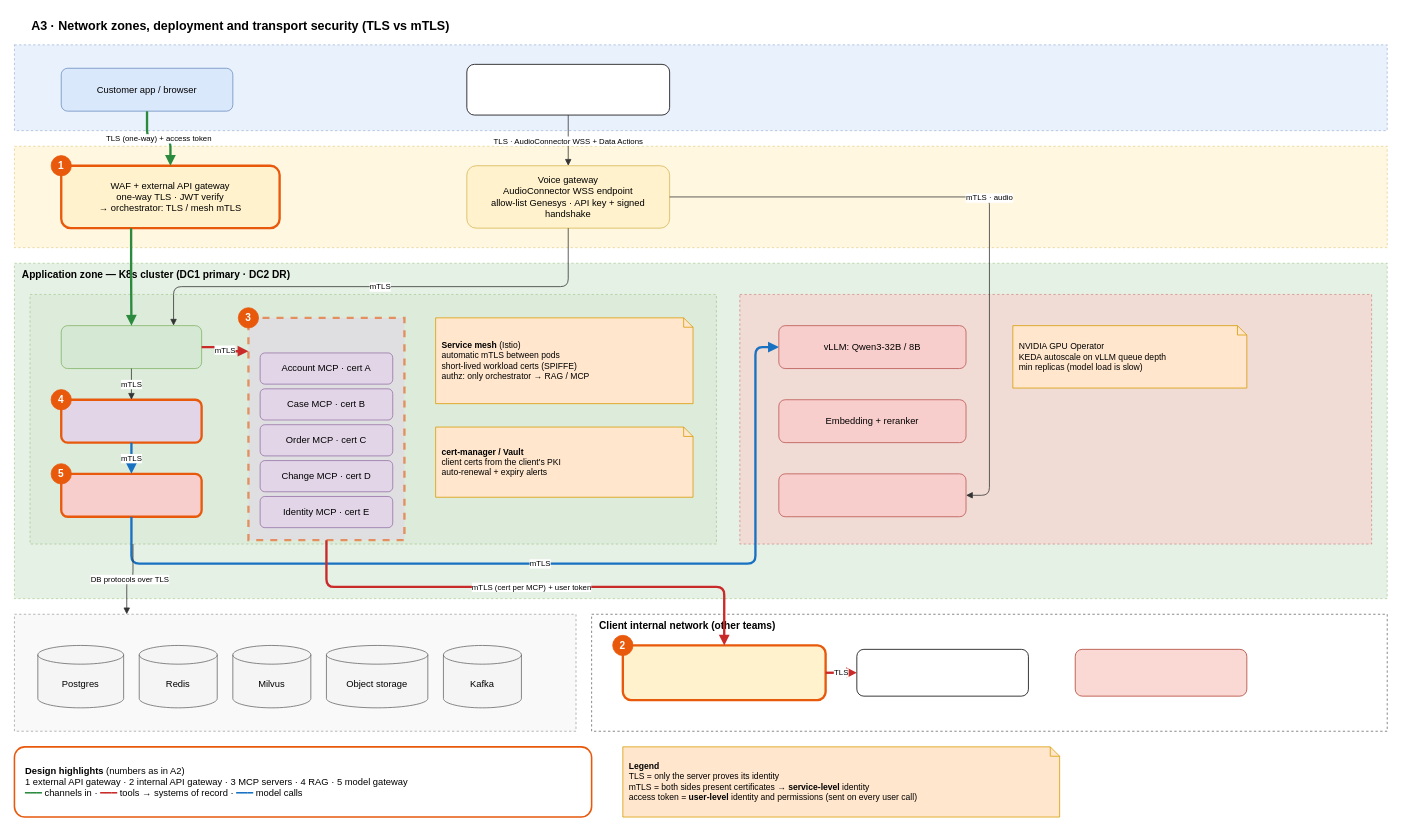
Image size: 1401x831. Some labels were removed from this diagram. The shapes that lost their labels are listed below. From the top down, each one's box as (x1, y1, x2, y2) in pixels, then its label:
(466, 64, 670, 115): Genesys Cloud CX (SaaS) or Genesys Engage (on-prem)
(14, 44, 1387, 131): Internet
(14, 145, 1387, 248): DMZ
(60, 325, 202, 369): Orchestrator
(60, 398, 202, 443): RAG service
(247, 316, 405, 541): MCP servers client cert A–E
(29, 294, 716, 544): CPU node pool
(739, 294, 1372, 544): GPU node pool (tainted)
(60, 472, 202, 518): Model gateway
(778, 473, 966, 517): STT / TTS
(14, 613, 576, 731): Data zone
(621, 644, 826, 701): Internal API gateway TLS + app token, or mTLS
(856, 649, 1028, 696): Accounts · Cases · CRM
(1074, 649, 1247, 696): IdP (OIDC) ← token exchange (TLS)
